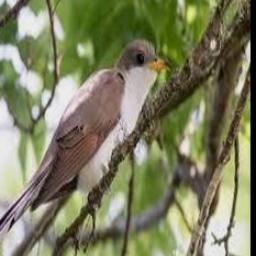Cuckoo: (0, 41, 174, 256)
